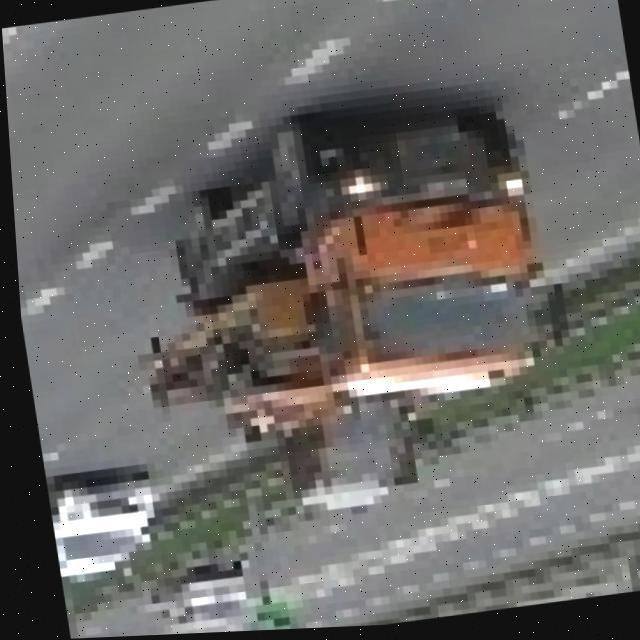truck: (117, 101, 586, 485)
